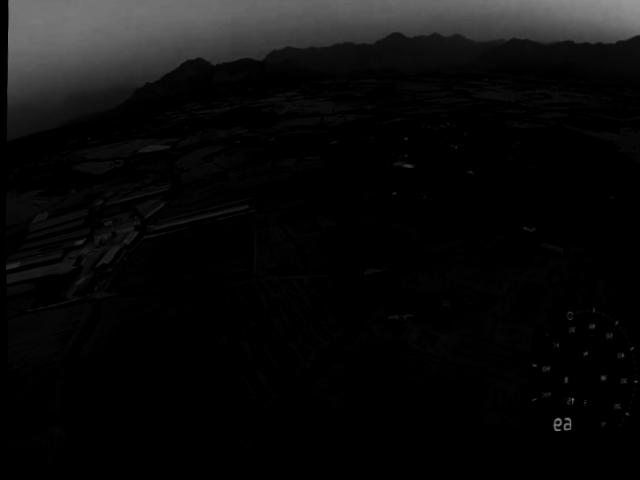hedef: (378, 308, 418, 337), (485, 437, 537, 447)
